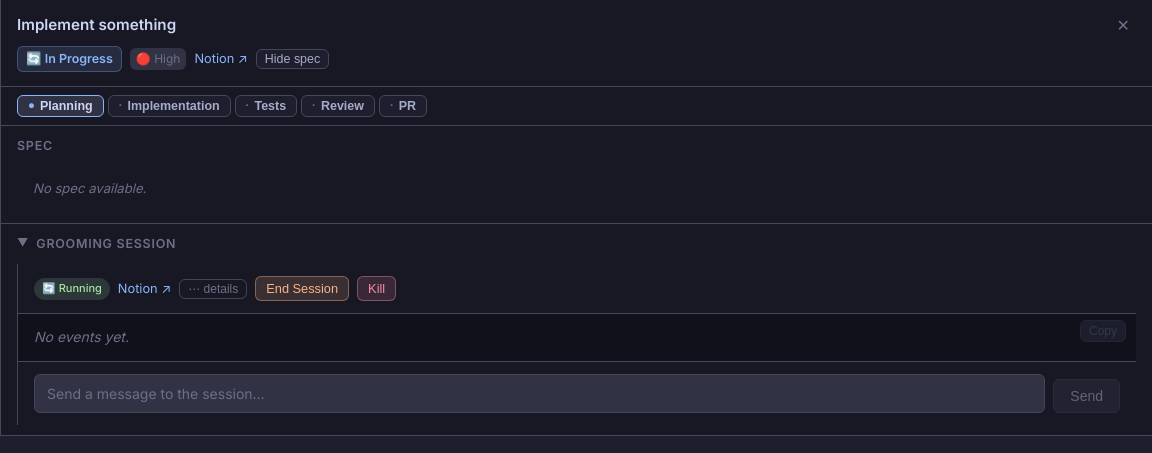
Scenario: TaskDetail › renders an inline collapsible SessionPanel for a launched planning session
Expected: the text "No events yet." is shown, [34, 328, 129, 345]
Expected: the element with test id "planning-session-body" is shown, [1, 264, 1151, 435]
Click the button with test id "planning-session-header" at (97, 244), box [17, 236, 176, 251]
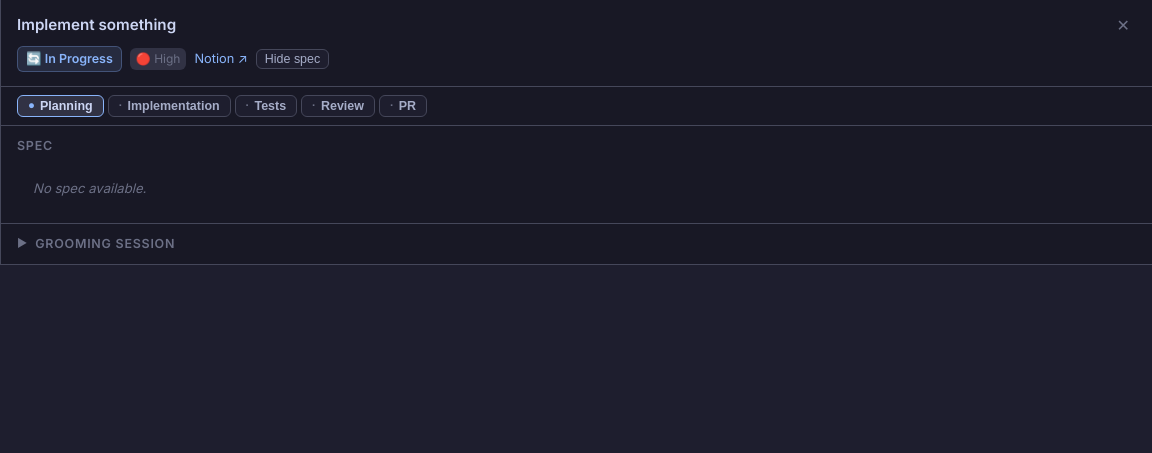
Now the button with test id "planning-session-header" is collapsed, box [17, 236, 175, 251]
Now the element with test id "planning-session-body" is gone
